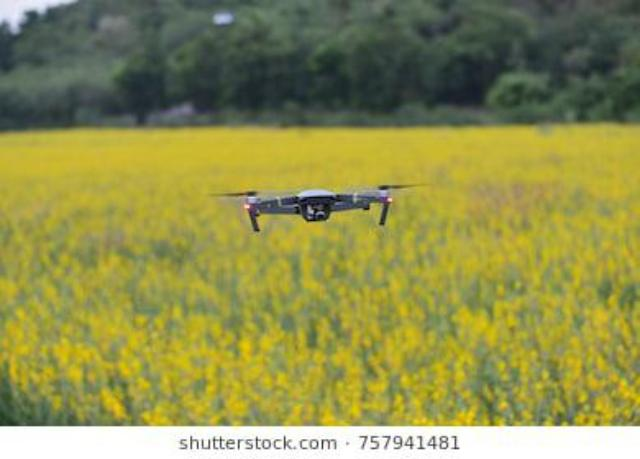drone: (0, 215, 640, 459)
